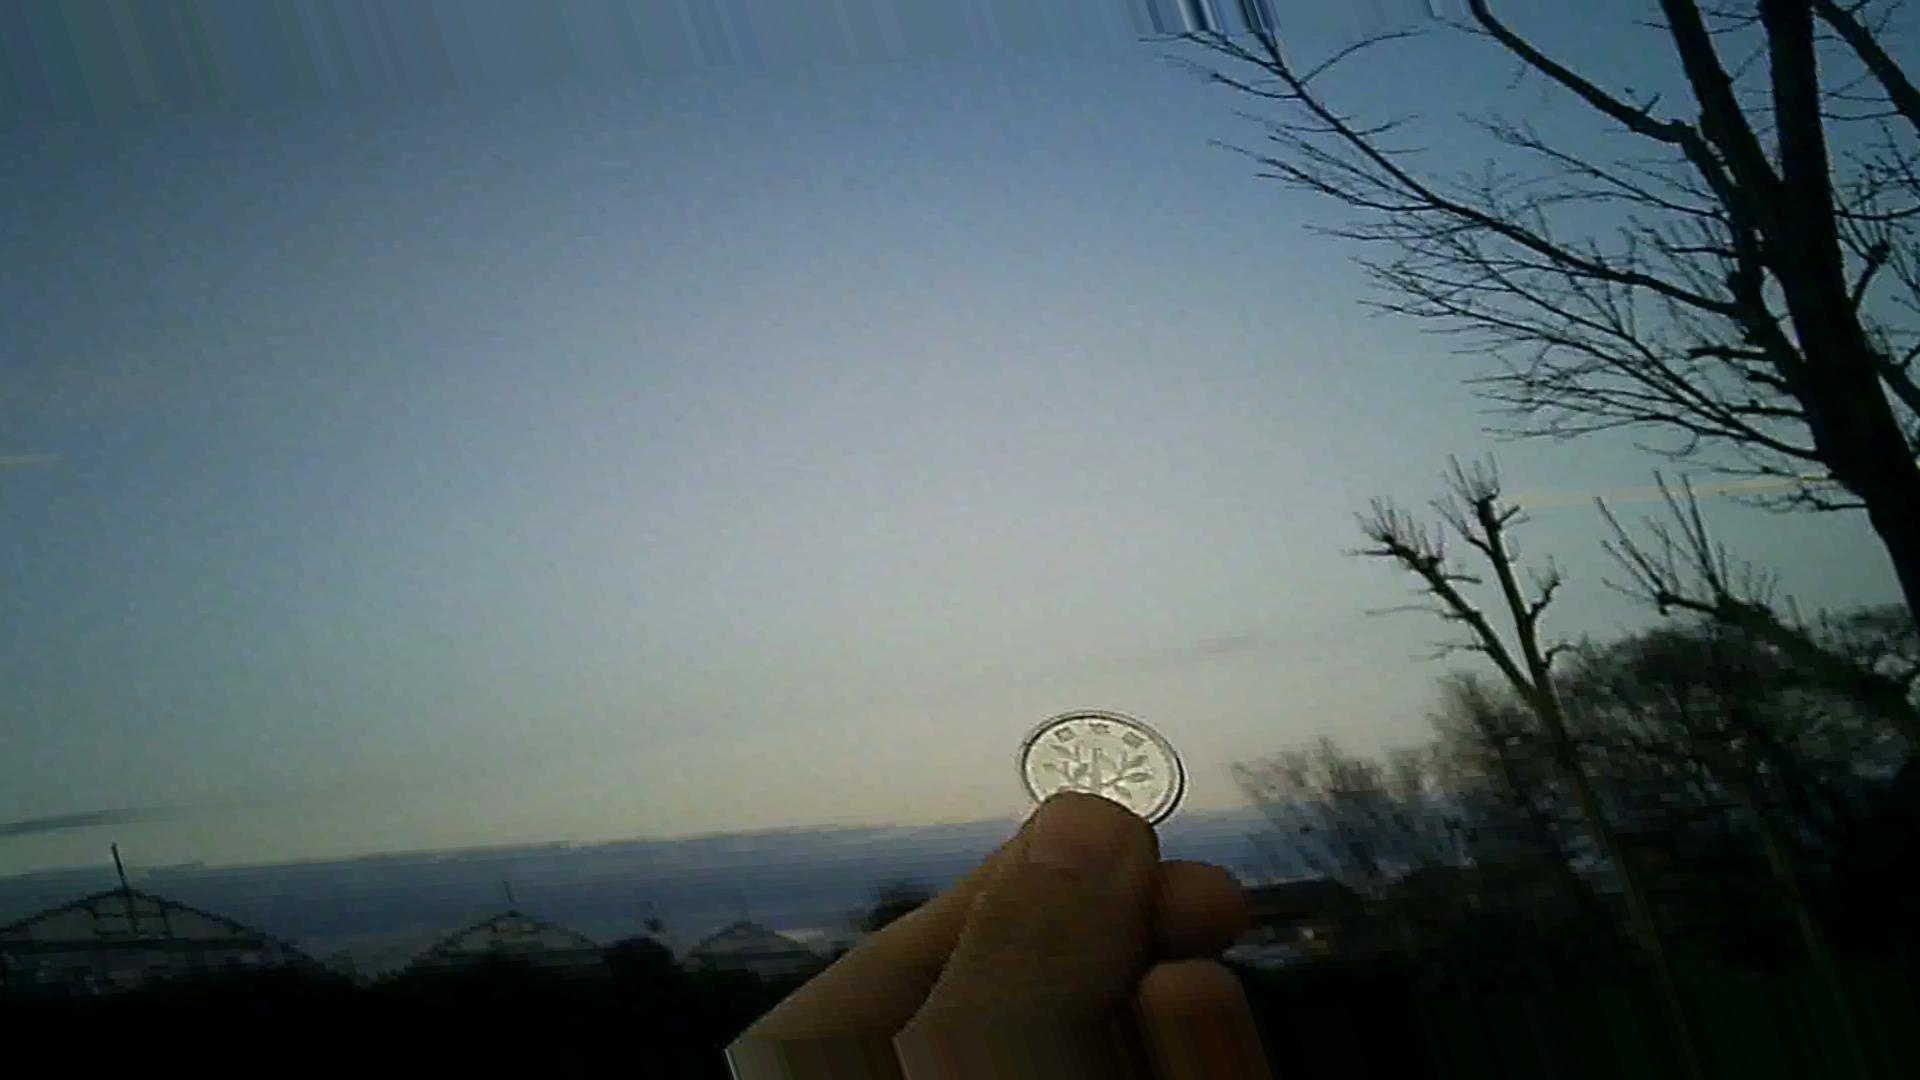1 Yen: (1015, 709, 1192, 839)
